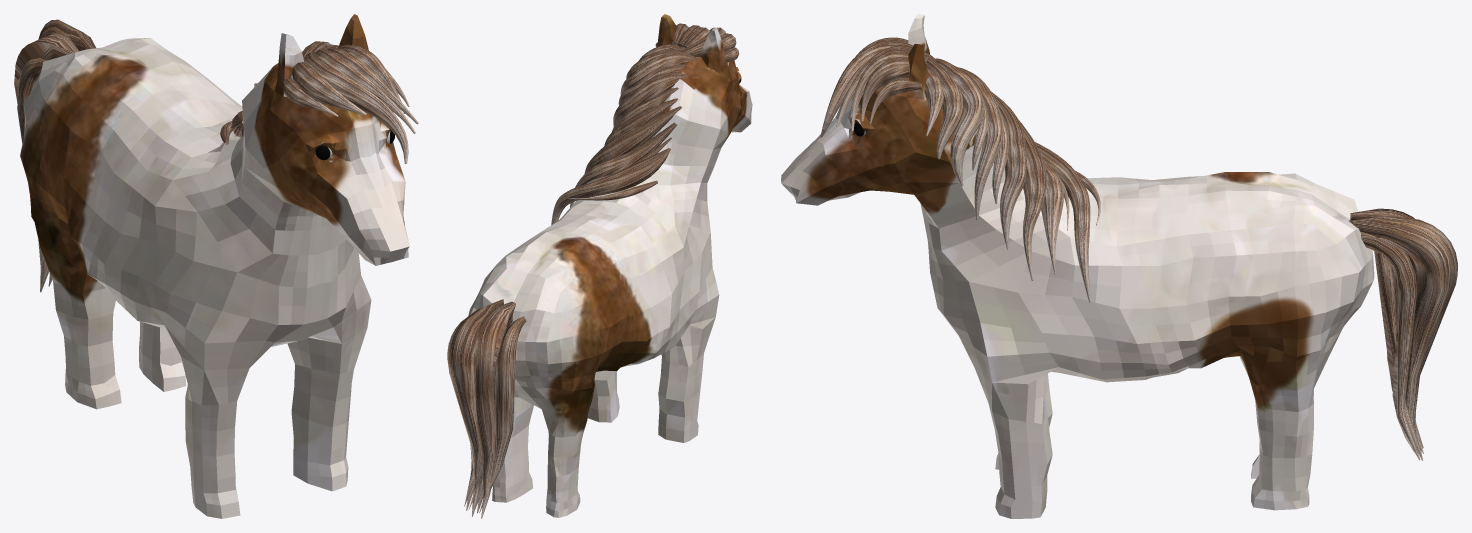
The model's file is Pony.obj.
3 renders of one model, left to right at view 1: azimuth 30°, elevation 25°; view 2: azimuth 150°, elevation 25°; view 3: azimuth 270°, elevation 25°, orthographic. The views are drawn at different scales.
Visible parts, largest first — view 1: Plane, NurbsPath.004, NurbsPath; view 2: Plane, NurbsPath.004, NurbsPath; view 3: Plane, NurbsPath.004, NurbsPath.
Boxes of the visible parts, <box> form: Plane: <box>20,14,409,518</box>; NurbsPath.004: <box>220,41,418,163</box>; NurbsPath: <box>14,19,95,292</box>; Plane: <box>468,14,752,517</box>; NurbsPath.004: <box>551,23,739,225</box>; NurbsPath: <box>447,299,526,518</box>; Plane: <box>781,14,1374,518</box>; NurbsPath.004: <box>820,37,1100,302</box>; NurbsPath: <box>1349,208,1457,460</box>.
Bounding box in the file's own units: 1.28 × 3.16 × 4.23.
